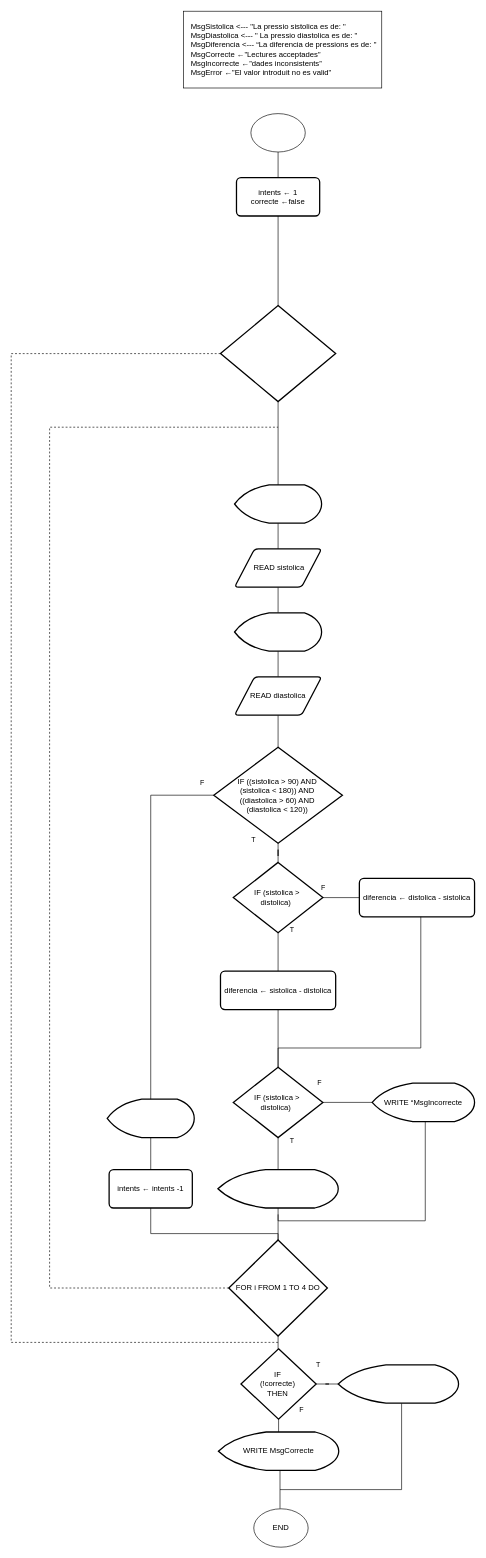
The diagram is 486 pixels wide and 1558 high, and some of its shapes have lost their labels. Each missing label, with the centre of its shape:
"START" belongs at point (277, 132).
"WHILE (intents <= 2 ) AND (!correcte) DO" belongs at point (278, 353).
"WRITE MsgDiastolica" belongs at point (278, 632).
"WRITE MsgError" belongs at point (398, 1384).
"WRITE MsgIncorrecte" belongs at point (150, 1118).
"WRITE MsgSistolica" belongs at point (278, 504).
"WRITE “la diferencia és de: “, diferencia" belongs at point (278, 1188).
